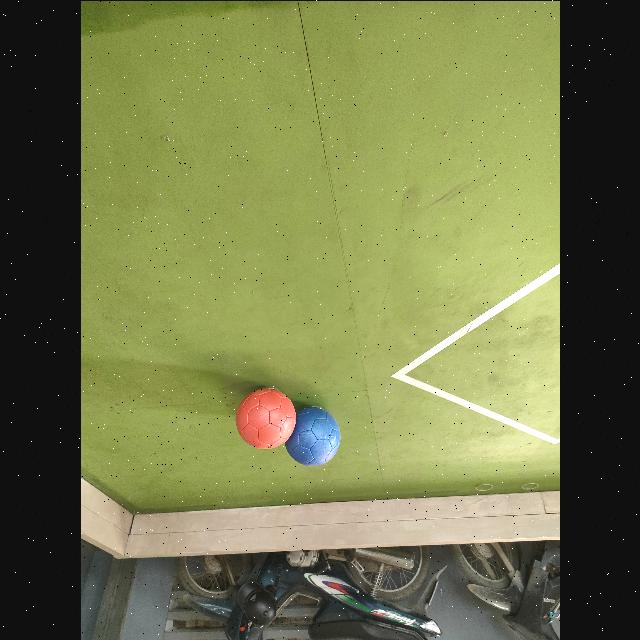B: (286, 406, 340, 466)
R: (236, 388, 296, 448)
